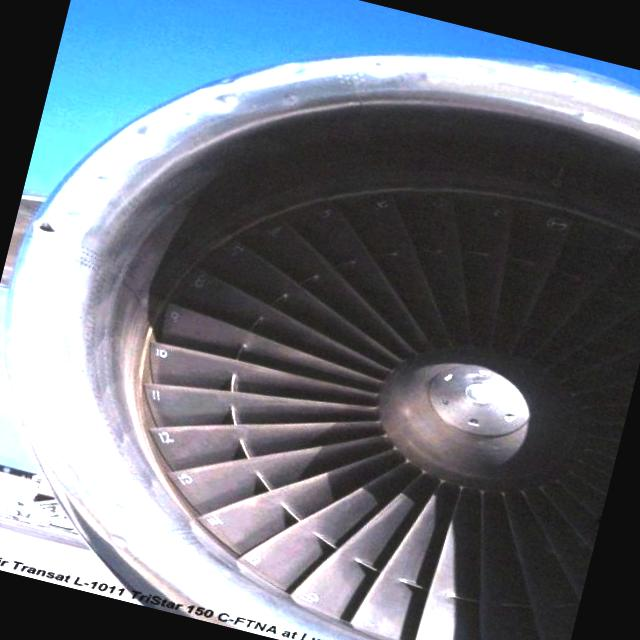dent: (24, 440, 168, 564)
